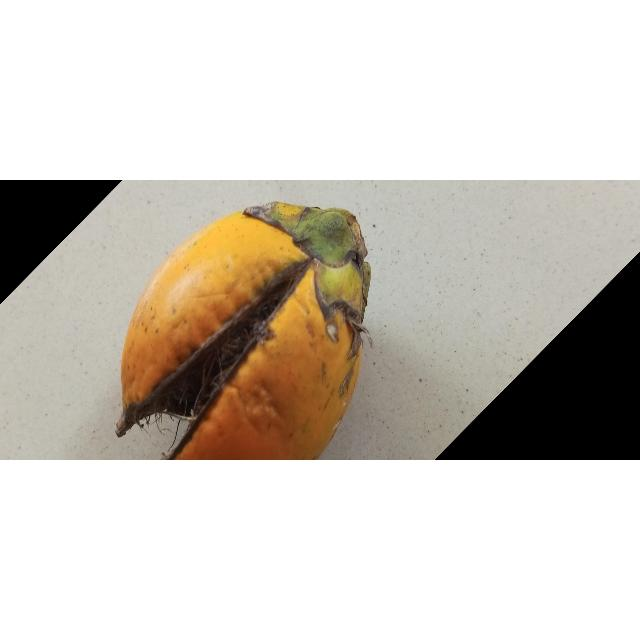damaged: (115, 203, 373, 461)
